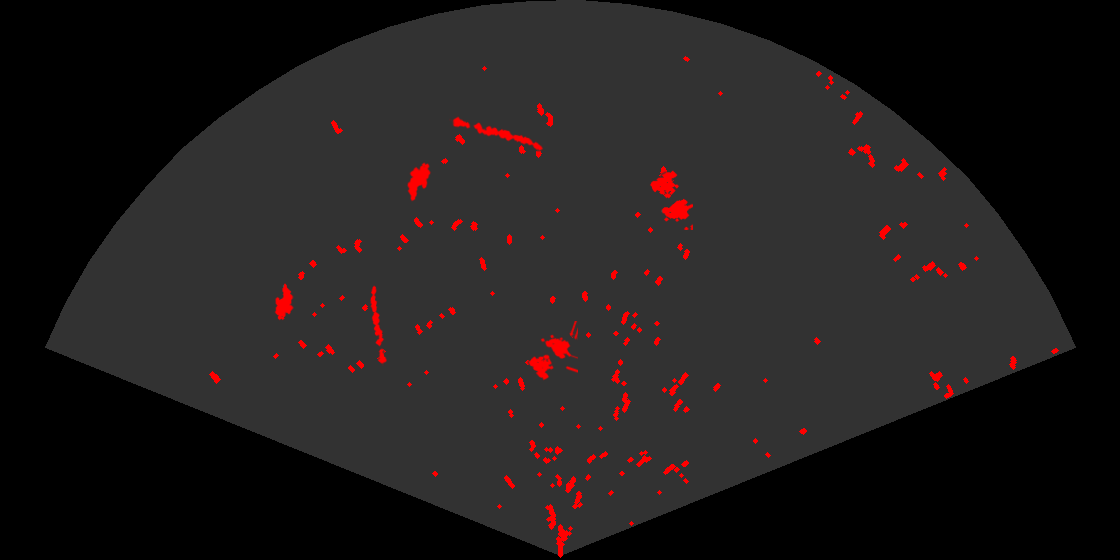AUV: (405, 161, 433, 203), (273, 282, 294, 322)
cage: (527, 321, 578, 382), (648, 169, 693, 230)
chain: (449, 115, 545, 152), (368, 284, 388, 366)
